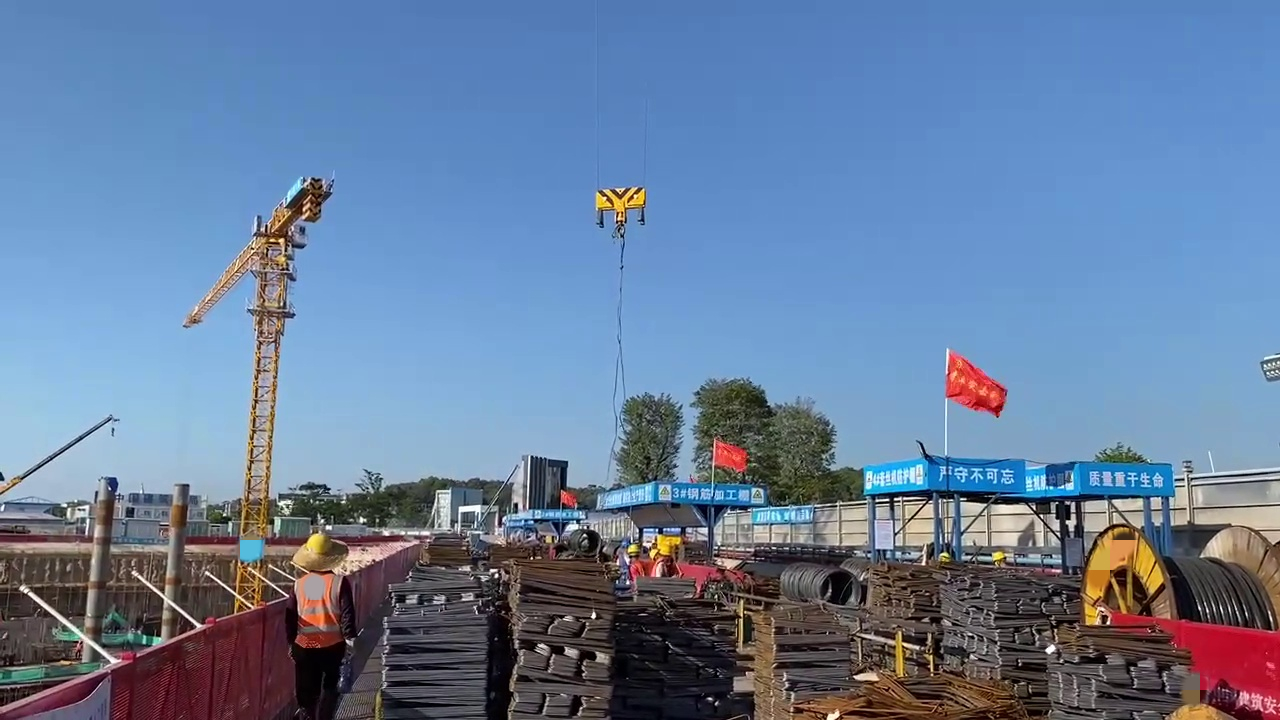fence: (3, 596, 278, 720), (1165, 619, 1280, 718)
helmet: (302, 533, 336, 552), (660, 545, 675, 558), (628, 544, 642, 557)
hook: (593, 183, 649, 232)
person: (281, 534, 355, 720), (651, 541, 681, 580), (624, 544, 643, 580)
rebar: (754, 571, 1048, 720), (405, 553, 615, 720)
slogan: (930, 459, 1030, 493), (1074, 463, 1173, 493)
vest: (293, 571, 347, 653)
